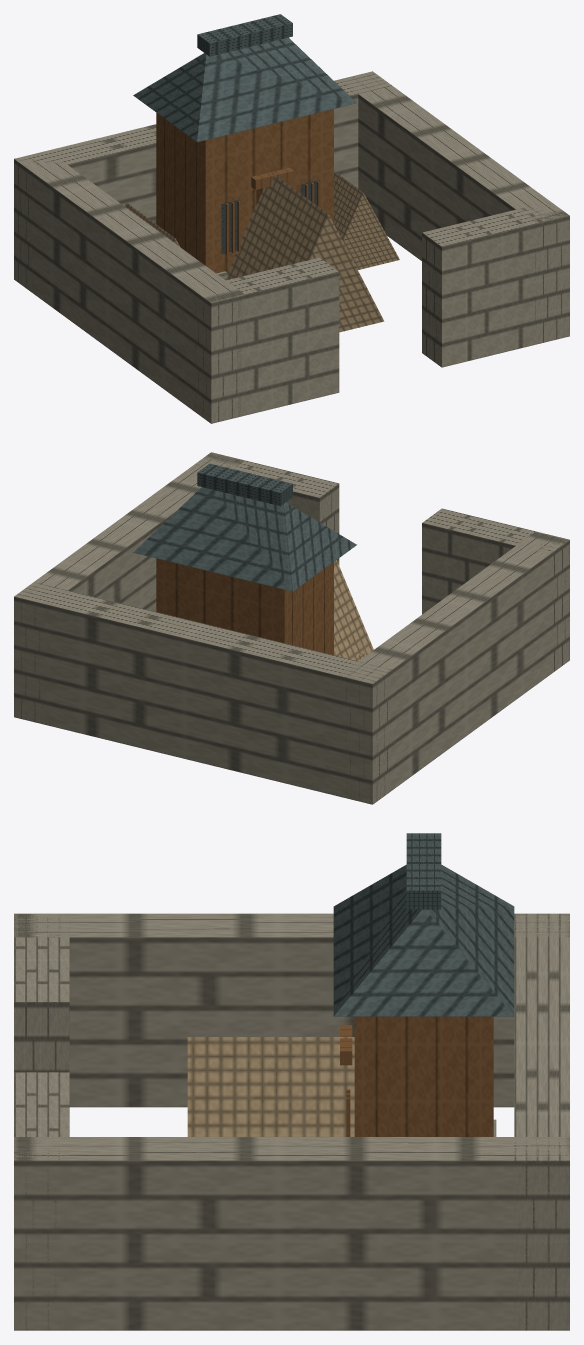
The model's file is military-FORTRESS-1-lod1.glb.
The picture shows the model from 3 angles, top to bottom: view 1: azimuth 30°, elevation 25°; view 2: azimuth 150°, elevation 25°; view 3: azimuth 270°, elevation 25°; orthographic projection. The views are drawn at different scales.
Size of the model in its own units: 0.84 by 0.548 by 0.8.
Materials: 1 (1 with a texture image).
